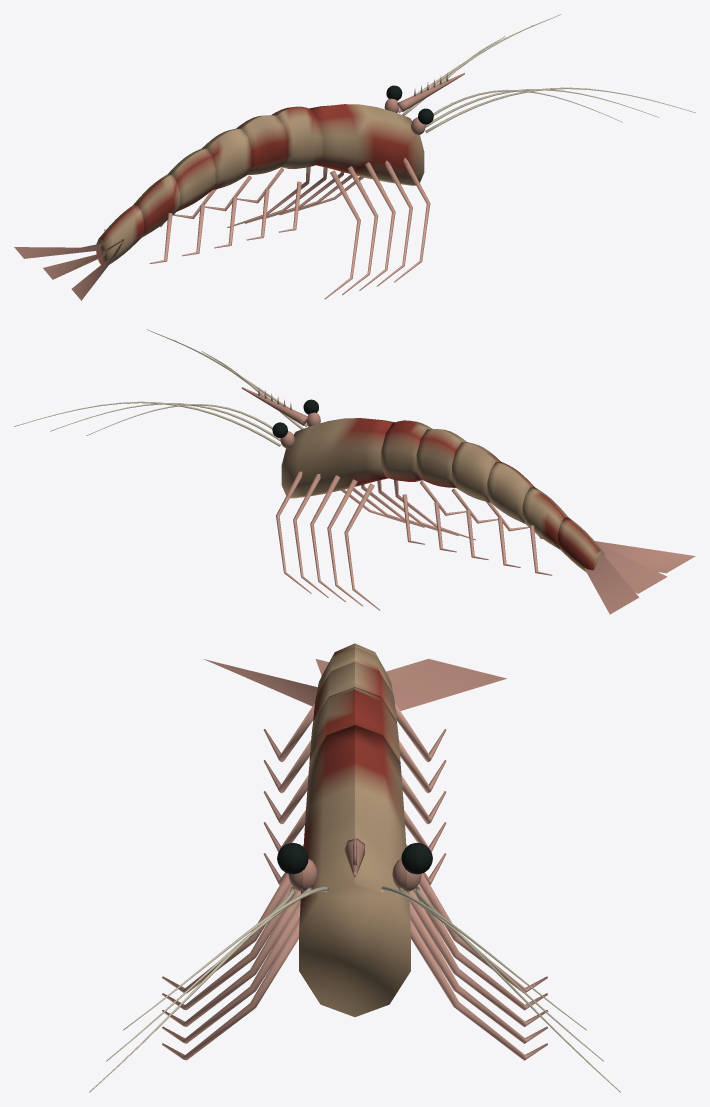
The model's file is peppermint-mobile.glb.
The picture shows the model from 3 angles, top to bottom: view 1: azimuth 30°, elevation 25°; view 2: azimuth 150°, elevation 25°; view 3: azimuth 270°, elevation 25°; orthographic projection. The views are drawn at different scales.
Visible parts, largest first — view 1: carapace, pereiopod, antenna, pleopod, serrated-rostrum; view 2: carapace, pereiopod, antenna, pleopod, serrated-rostrum; view 3: carapace, pereiopod, pleopod, antenna, eye, eye-stalk.
Part boxes in pixels (<box>): carapace: <box>14,104,424,300</box>; pereiopod: <box>227,158,430,299</box>; antenna: <box>398,14,695,133</box>; pleopod: <box>104,167,301,263</box>; serrated-rostrum: <box>397,73,464,111</box>; carapace: <box>281,418,695,614</box>; pereiopod: <box>276,471,475,610</box>; antenna: <box>14,329,307,446</box>; pleopod: <box>402,480,552,575</box>; serrated-rostrum: <box>241,387,308,425</box>; carapace: <box>203,643,506,1016</box>; pereiopod: <box>162,844,547,1060</box>; pleopod: <box>263,703,446,884</box>; antenna: <box>89,886,620,1092</box>; eye: <box>277,843,432,874</box>; eye-stalk: <box>288,859,421,891</box>.
Bounding box in the file's own units: 1.18 × 0.2938 × 0.4707.
